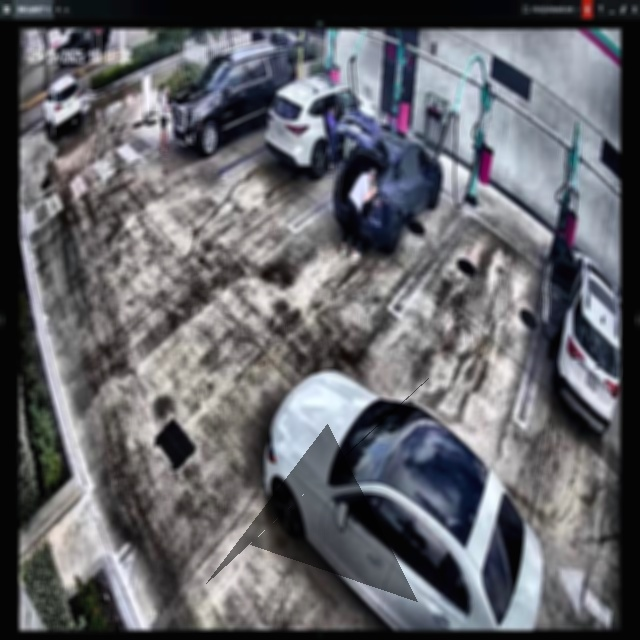Car: (263, 373, 542, 632), (334, 117, 444, 246), (172, 46, 295, 156), (267, 74, 380, 177)
